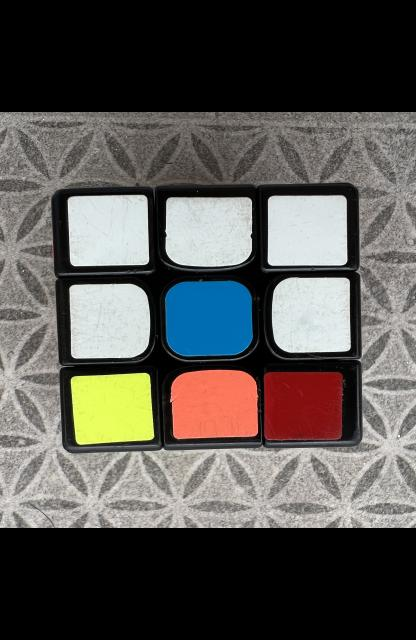Blue: (164, 281, 252, 357)
Orange: (169, 370, 257, 439)
Red: (263, 372, 342, 440)
White: (68, 283, 149, 359), (164, 198, 252, 267), (270, 278, 350, 352), (67, 194, 148, 266), (267, 195, 347, 266)
Yellow: (69, 373, 153, 445)
